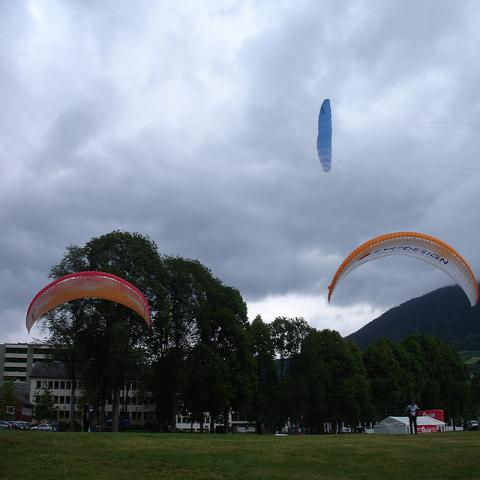car: (31, 423, 57, 430), (468, 420, 479, 431), (18, 420, 30, 430), (0, 421, 9, 430), (13, 422, 19, 430)
